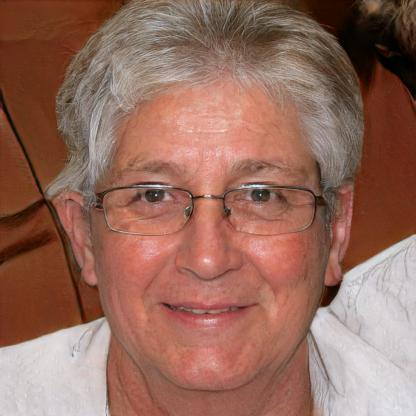glasses: (90, 178, 322, 240)
